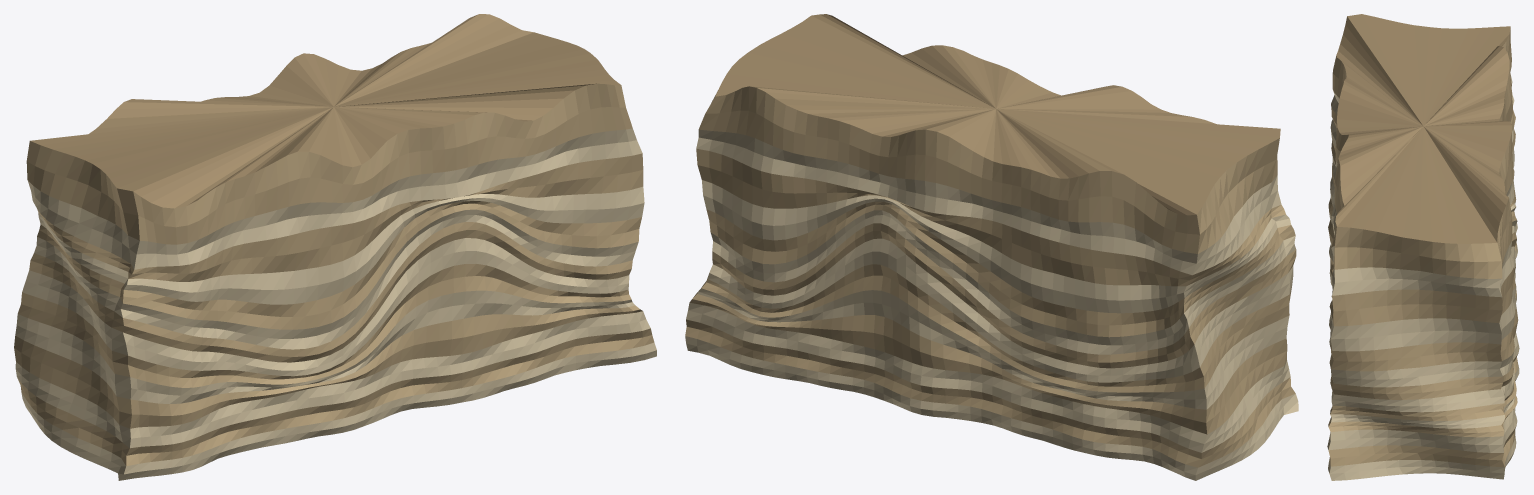
3 views of the same model, side by side, from view 1: azimuth 30°, elevation 25°; view 2: azimuth 150°, elevation 25°; view 3: azimuth 270°, elevation 25° (orthographic). The views are drawn at different scales.
Visible parts, largest first — view 1: bounded_soft_sediment_slump_folded_middle_interval_orderly_u; view 2: bounded_soft_sediment_slump_folded_middle_interval_orderly_u; view 3: bounded_soft_sediment_slump_folded_middle_interval_orderly_u.
Boxes of the visible parts, left/top/right/bottom form: bounded_soft_sediment_slump_folded_middle_interval_orderly_u: left=14, top=14, right=656, bottom=480; bounded_soft_sediment_slump_folded_middle_interval_orderly_u: left=685, top=14, right=1298, bottom=480; bounded_soft_sediment_slump_folded_middle_interval_orderly_u: left=1327, top=14, right=1519, bottom=480.
Bounding box in the file's own units: 8.28 × 4.22 × 2.94.
